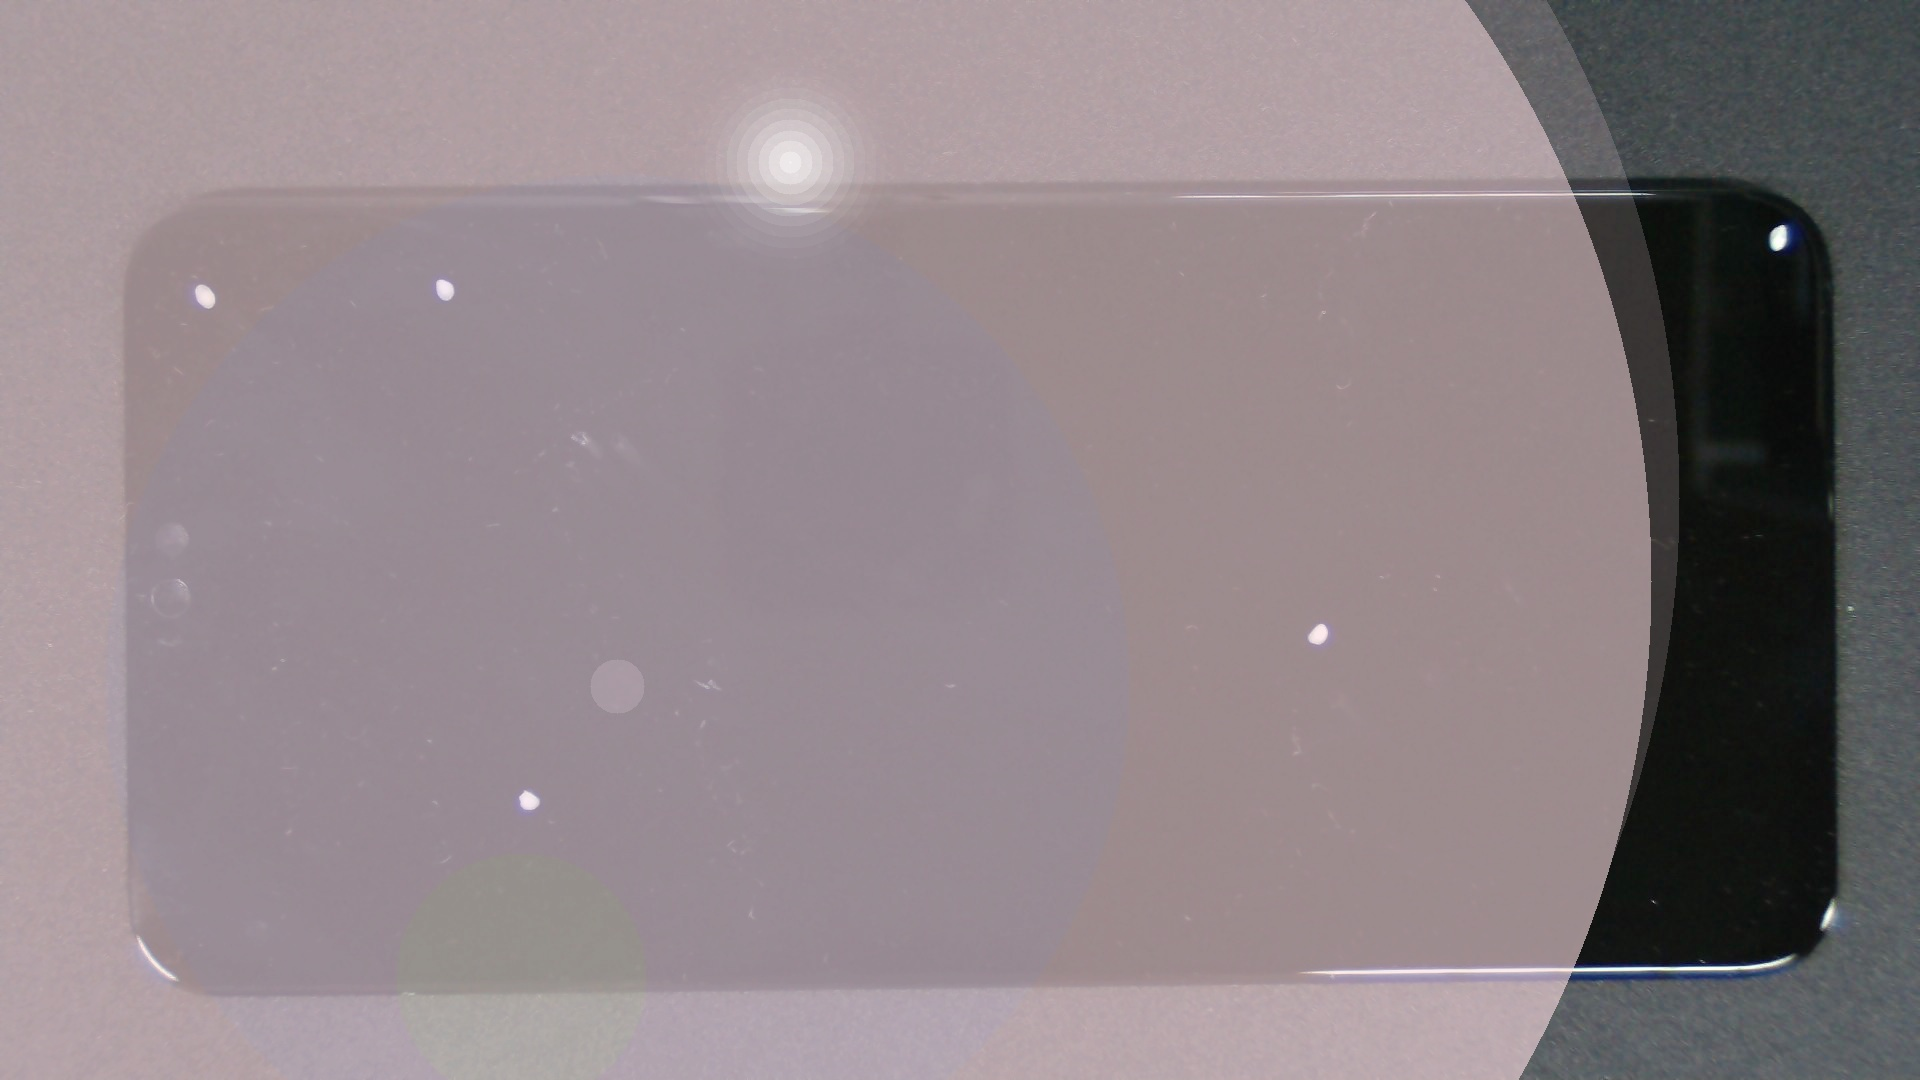oil: (662, 310, 1920, 934), (261, 394, 785, 1080), (290, 215, 868, 647), (891, 112, 1920, 336), (220, 138, 655, 418), (99, 141, 294, 426)
